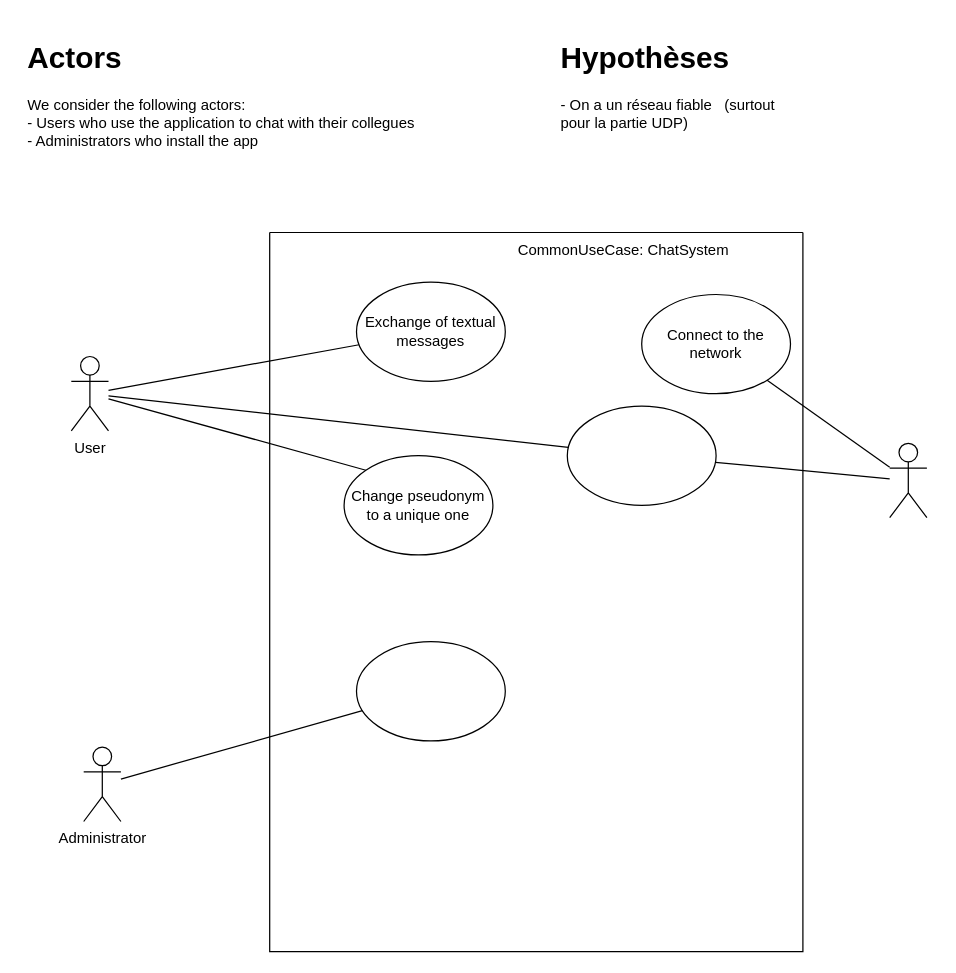
The diagram is 956 pixels wide and 973 high, and some of its shapes have lost their labels. The centre of each missing label's shape, as x and y in pixels:
"Install the app" goes at (430,690).
"Network" goes at (907,480).
"Show the other users" goes at (641,455).
